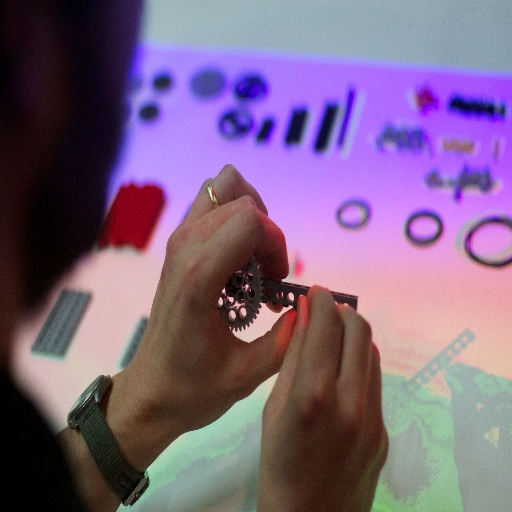hand: (87, 172, 259, 501), (255, 282, 390, 511)
